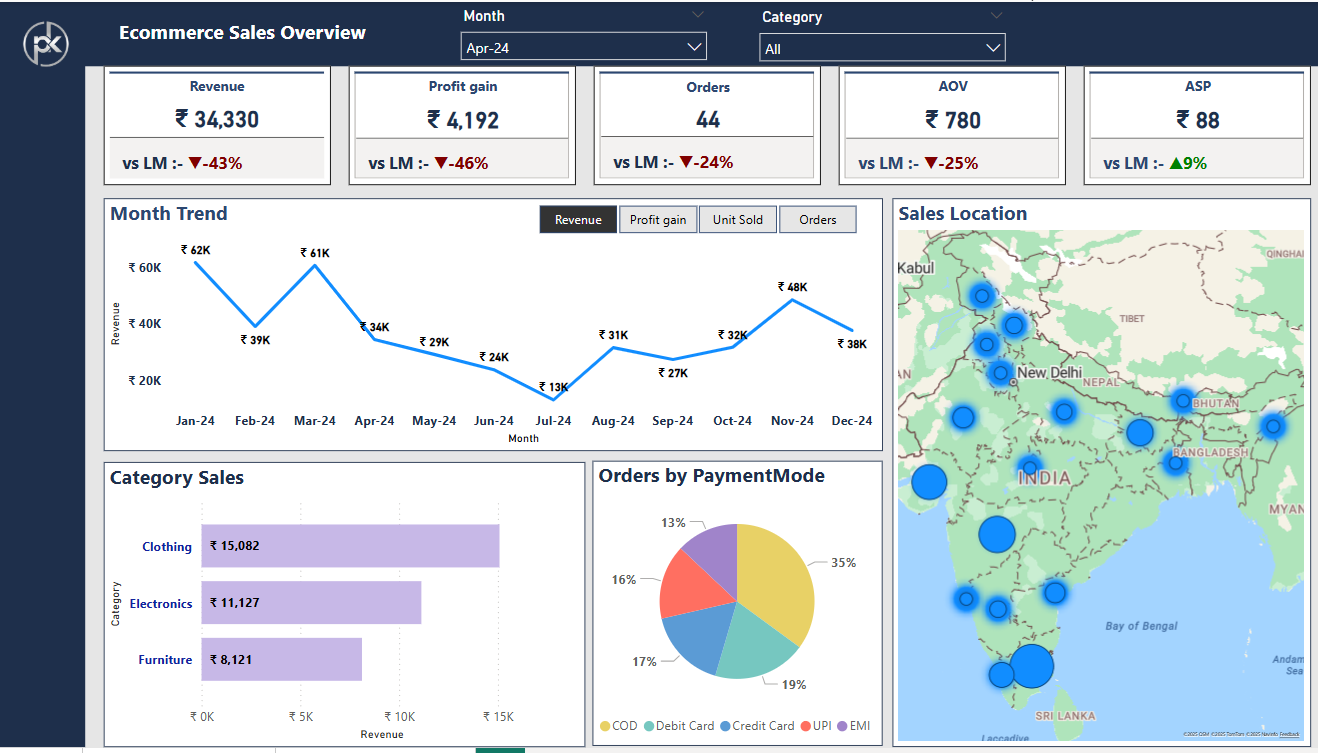

The dashboard page shown, as its layout file describes it:
{"tool":"powerbi","page":{"name":"Sales Overview","canvas":[1280,720],"ordinal":0},"visuals":[{"type":"shape","box":[0,62,82.2,657.9],"z":0},{"type":"shape","box":[0,0,1279.7,62],"z":1000},{"type":"textbox","box":[82,10.9,304,42.2],"z":2000},{"type":"cardVisual","fields":{"Data":["Details.Revenue"]},"box":[99.6,62,219.3,115.4],"z":3000},{"type":"slicer","fields":{"Values":["Calendar.Month"]},"box":[434.3,0,258.3,62],"z":4000},{"type":"cardVisual","fields":{"Data":["Details.Profit gain"]},"box":[336.2,62,219.3,115.4],"z":5000},{"type":"cardVisual","fields":{"Data":["Details.Orders"]},"box":[572.8,62,219.3,115.4],"z":6000},{"type":"cardVisual","fields":{"Data":["Details.AOV"]},"box":[809.4,62,219.3,115.4],"z":7000},{"type":"cardVisual","fields":{"Data":["Details.ASP"]},"box":[1046,62,219.3,115.4],"z":8000},{"type":"lineChart","title":"Month Trend","fields":{"Y":["Details.Revenue"],"Category":["Calendar.Month"]},"box":[99.6,189,751.7,243.8],"z":9000},{"type":"slicer","fields":{"Values":["Sales Matrics.Sales Matrics"]},"box":[494.9,189,356.4,40.4],"z":10000},{"type":"barChart","title":"Category Sales","fields":{"Category":["Dim Cat and Sub cat.Category"],"Y":["Details.Revenue"]},"box":[99.6,444.4,464.6,275.6],"z":11000},{"type":"azureMap","title":"Sales Location","fields":{"Category":["State and City Dim.State"],"Size":["Details.Profit gain"]},"box":[861.3,189,404,529.5],"z":12000},{"type":"pieChart","fields":{"Category":["Details.PaymentMode"],"Y":["Details.Orders"]},"box":[571.3,442.9,279.9,275.6],"z":13000},{"type":"slicer","fields":{"Values":["Dim Cat and Sub cat.Category"]},"box":[722.8,1.4,258.3,62],"z":14000},{"type":"image","box":[0,0,90.5,82],"z":15000}]}

Visuals, with their boxes in screenshot pixels (x1, y1, x2, y2), scaled from the page's 1280x720 canvas onto the 1318x753 screenshot:
shape: Rect(0, 65, 85, 752)
shape: Rect(0, 0, 1317, 65)
textbox: Rect(84, 11, 397, 56)
cardVisual - Details.Revenue: Rect(103, 65, 328, 186)
slicer - Calendar.Month: Rect(447, 0, 713, 65)
cardVisual - Details.Profit gain: Rect(346, 65, 572, 186)
cardVisual - Details.Orders: Rect(590, 65, 816, 186)
cardVisual - Details.AOV: Rect(833, 65, 1059, 186)
cardVisual - Details.ASP: Rect(1077, 65, 1303, 186)
"Month Trend" lineChart: Rect(103, 198, 877, 453)
slicer - Sales Matrics.Sales Matrics: Rect(510, 198, 877, 240)
"Category Sales" barChart: Rect(103, 465, 581, 752)
"Sales Location" azureMap: Rect(887, 198, 1303, 751)
pieChart - Details.PaymentMode x Details.Orders: Rect(588, 463, 876, 751)
slicer - Dim Cat and Sub cat.Category: Rect(744, 1, 1010, 66)
image: Rect(0, 0, 93, 86)
